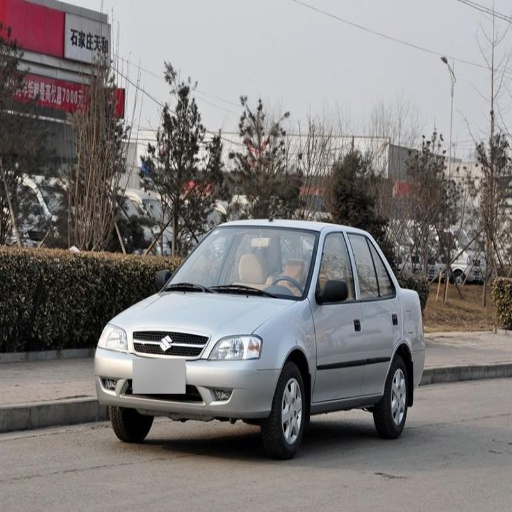front_bumper: (95, 325, 280, 420)
front_glass: (164, 228, 318, 298)
front_left_door: (313, 230, 362, 400)
